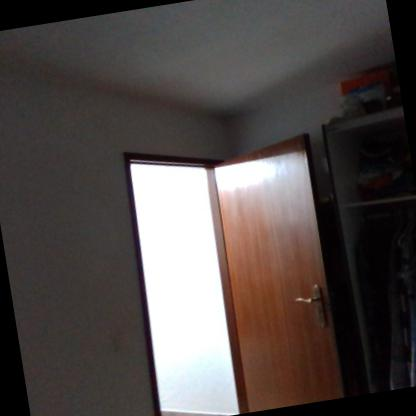open: (99, 114, 362, 415)
